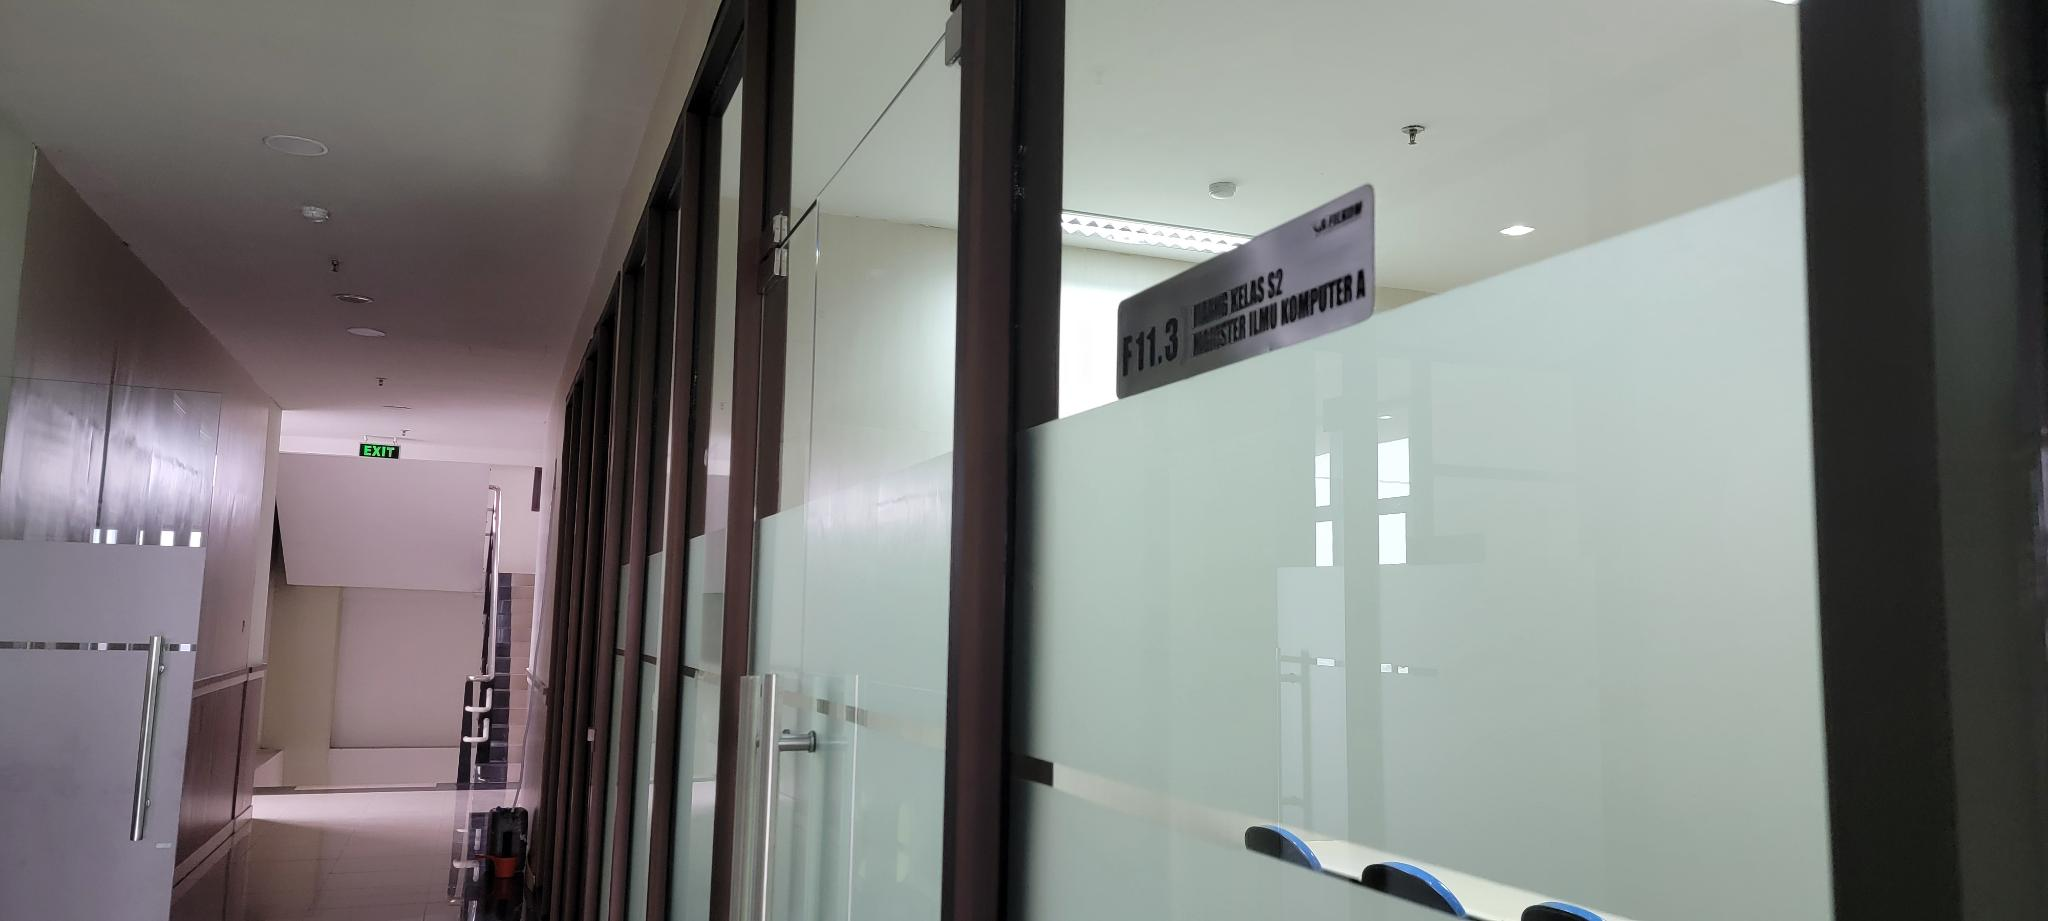plate: (1114, 182, 1377, 397)
